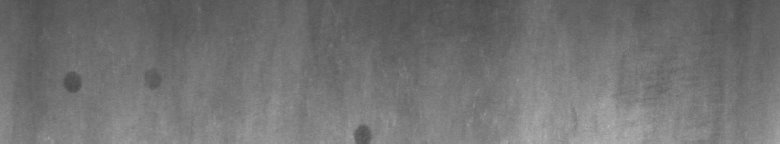fi: (348, 120, 372, 136)
